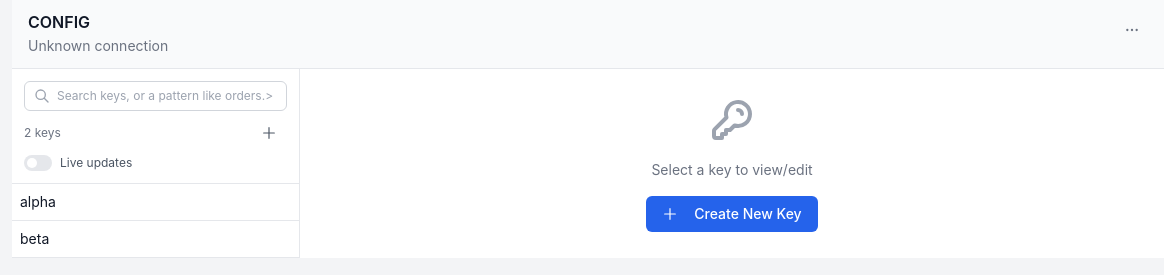
Scenario: KVStorePage › filters loaded keys by plain text without asking the server
The image size is (1164, 275).
Type "alp" into the field with placeholder "Search keys, or a pattern like orders.>" at (156, 96), box top-left (24, 81), bottom-right (287, 111)
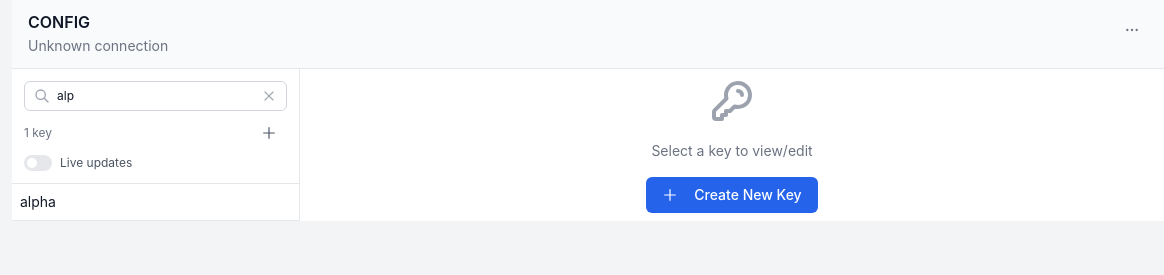
Expected: the button "alpha" is shown, top-left (12, 184), bottom-right (243, 220)
Result: the button "beta" is gone
